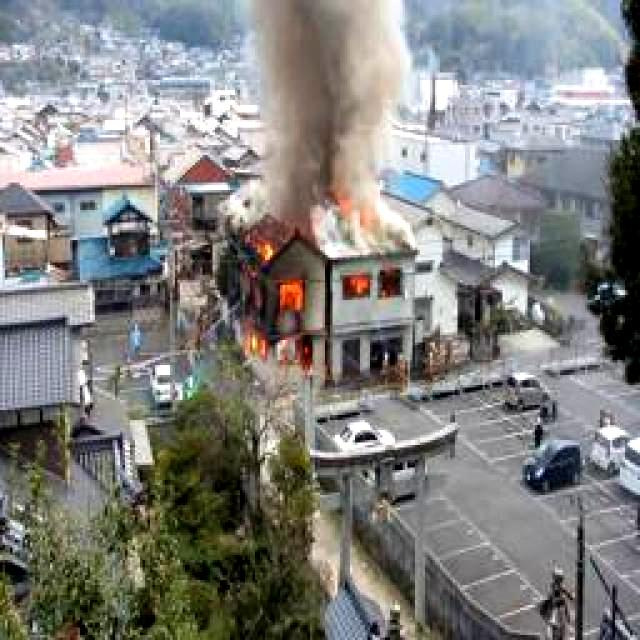fire: (234, 240, 310, 372), (336, 270, 376, 294)
